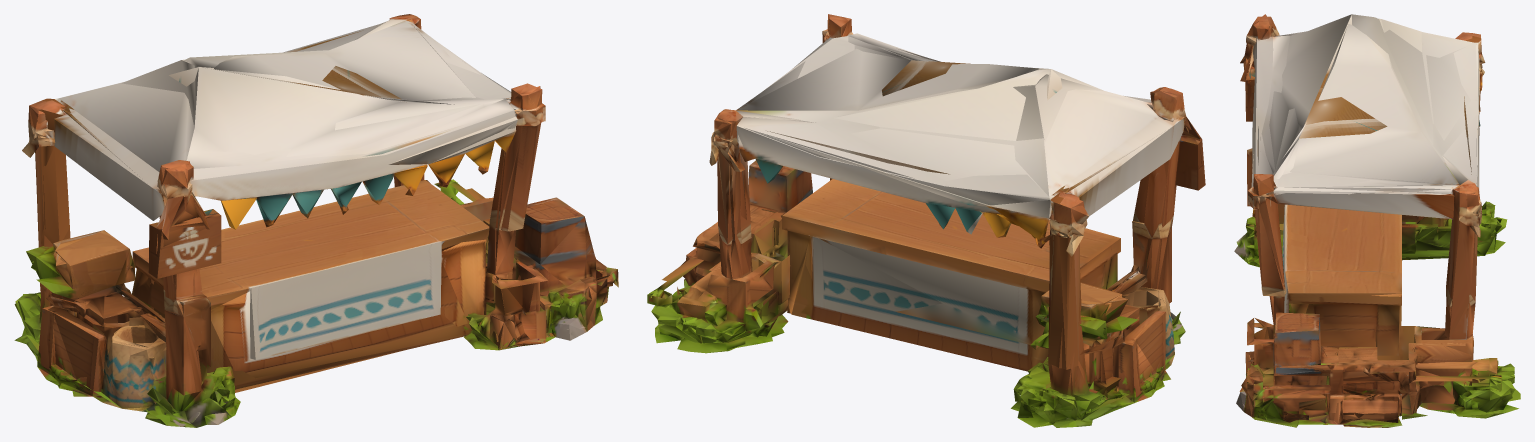
Rendered from Puesto2.fbx.
The picture shows the model from 3 angles, left to right: view 1: azimuth 30°, elevation 25°; view 2: azimuth 150°, elevation 25°; view 3: azimuth 270°, elevation 25°; orthographic projection. The views are drawn at different scales.
Visible parts, largest first — view 1: Puesto2Alto, Puesto2Medio.001, Puesto2Medio; view 2: Puesto2Alto, Puesto2Medio, Puesto2Medio.001; view 3: Puesto2Alto, Puesto2Medio.001, Puesto2Medio.
Boxes of the visible parts, <box> form: Puesto2Alto: <box>14,14,618,425</box>; Puesto2Medio.001: <box>23,20,618,427</box>; Puesto2Medio: <box>15,14,618,427</box>; Puesto2Alto: <box>647,16,1205,427</box>; Puesto2Medio: <box>649,14,1201,422</box>; Puesto2Medio.001: <box>650,32,1199,414</box>; Puesto2Alto: <box>1234,16,1520,427</box>; Puesto2Medio.001: <box>1236,14,1513,424</box>; Puesto2Medio: <box>1243,14,1514,427</box>.
Size of the model in its own units: 483 by 278 by 277.
